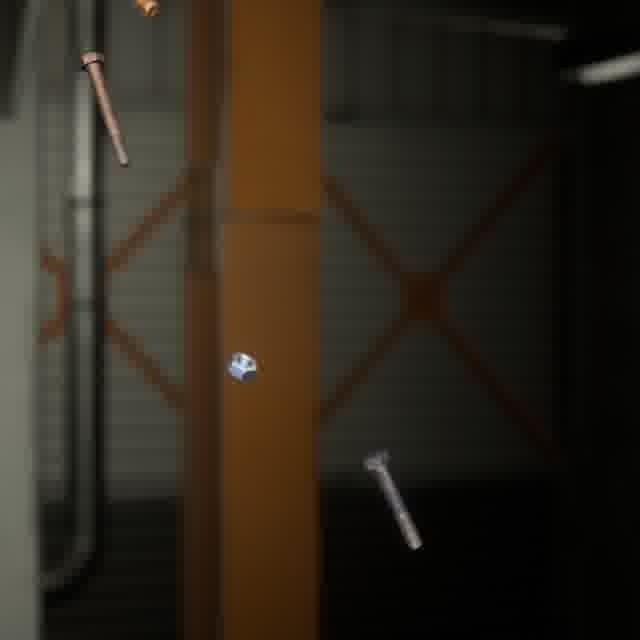bolt: (73, 47, 135, 172), (358, 445, 426, 553)
nut: (222, 347, 261, 384)
